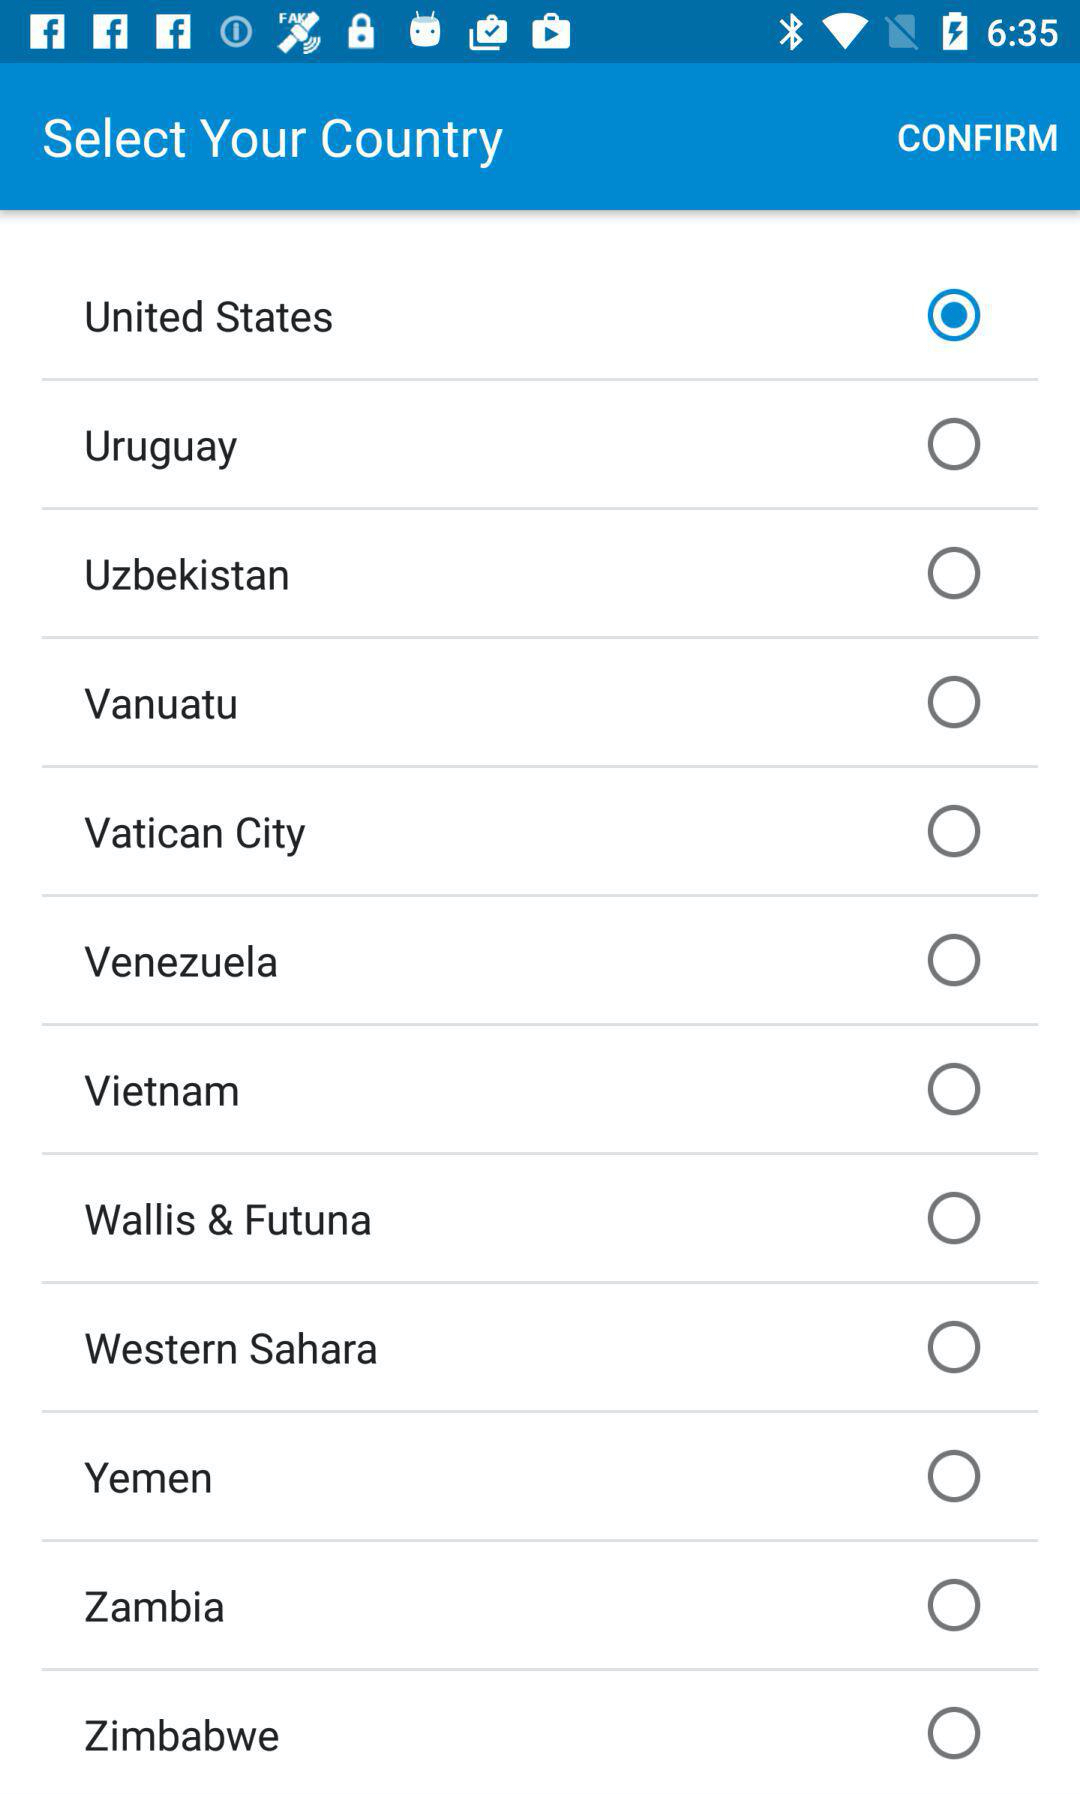CheckedTextView: (85, 675, 983, 730), (85, 1190, 983, 1246), (86, 546, 983, 601), (85, 1062, 981, 1117), (86, 1577, 983, 1633), (87, 288, 983, 343), (86, 803, 981, 859), (87, 416, 981, 472), (85, 933, 983, 987), (85, 1449, 983, 1503), (85, 1320, 981, 1374), (86, 1706, 981, 1759)
Text: (44, 117, 503, 170), (85, 1331, 378, 1366), (85, 1203, 372, 1237), (86, 816, 307, 859), (87, 300, 334, 334), (86, 557, 290, 592), (85, 944, 279, 978), (86, 1718, 281, 1752), (87, 431, 240, 472), (85, 1074, 240, 1107), (85, 688, 238, 721), (897, 123, 1058, 154), (86, 1589, 225, 1624), (85, 1461, 211, 1494)
UpperTaskBar: (1, 1, 1080, 64)
